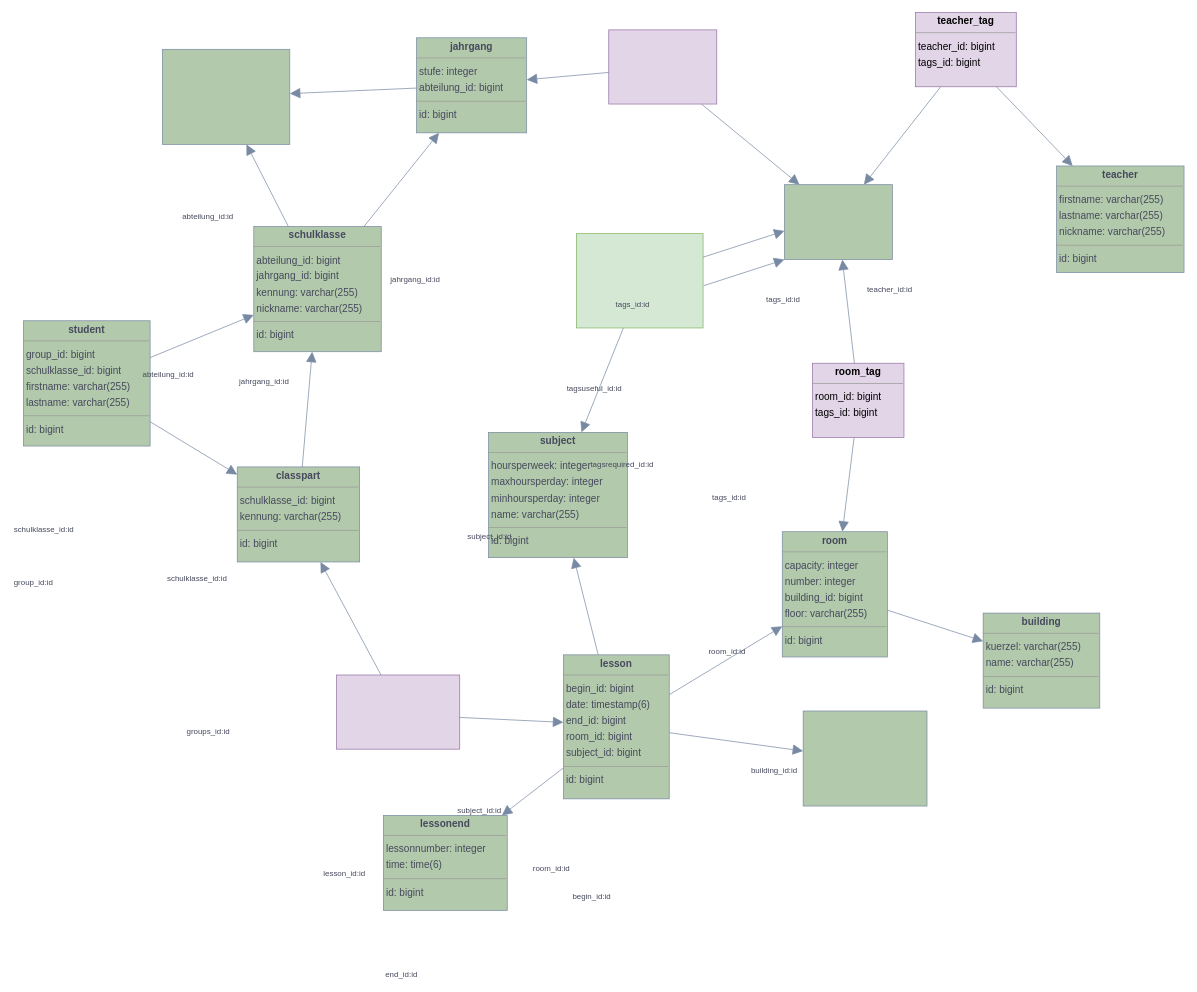
Some shapes in this 1197 by 992 pixel diagram are drawn without their labels. Each missing label, with the box of its shape:
abteilung name: varchar(255) nickname: varchar(255) id: bigint: (162, 49, 290, 144)
jahrgang_tag jahrgang_id: bigint tags_id: bigint: (608, 29, 717, 104)
lesson_classpart lesson_id: bigint groups_id: bigint: (336, 674, 460, 749)
lessonbegin lessonnumber: integer time: time(6) id: bigint: (802, 710, 927, 806)
subject_tag subject_id: bigint tagsrequired_id: bigint tagsuseful_id: bigint: (576, 233, 703, 328)
tag name: varchar(255) id: bigint: (784, 184, 892, 260)
